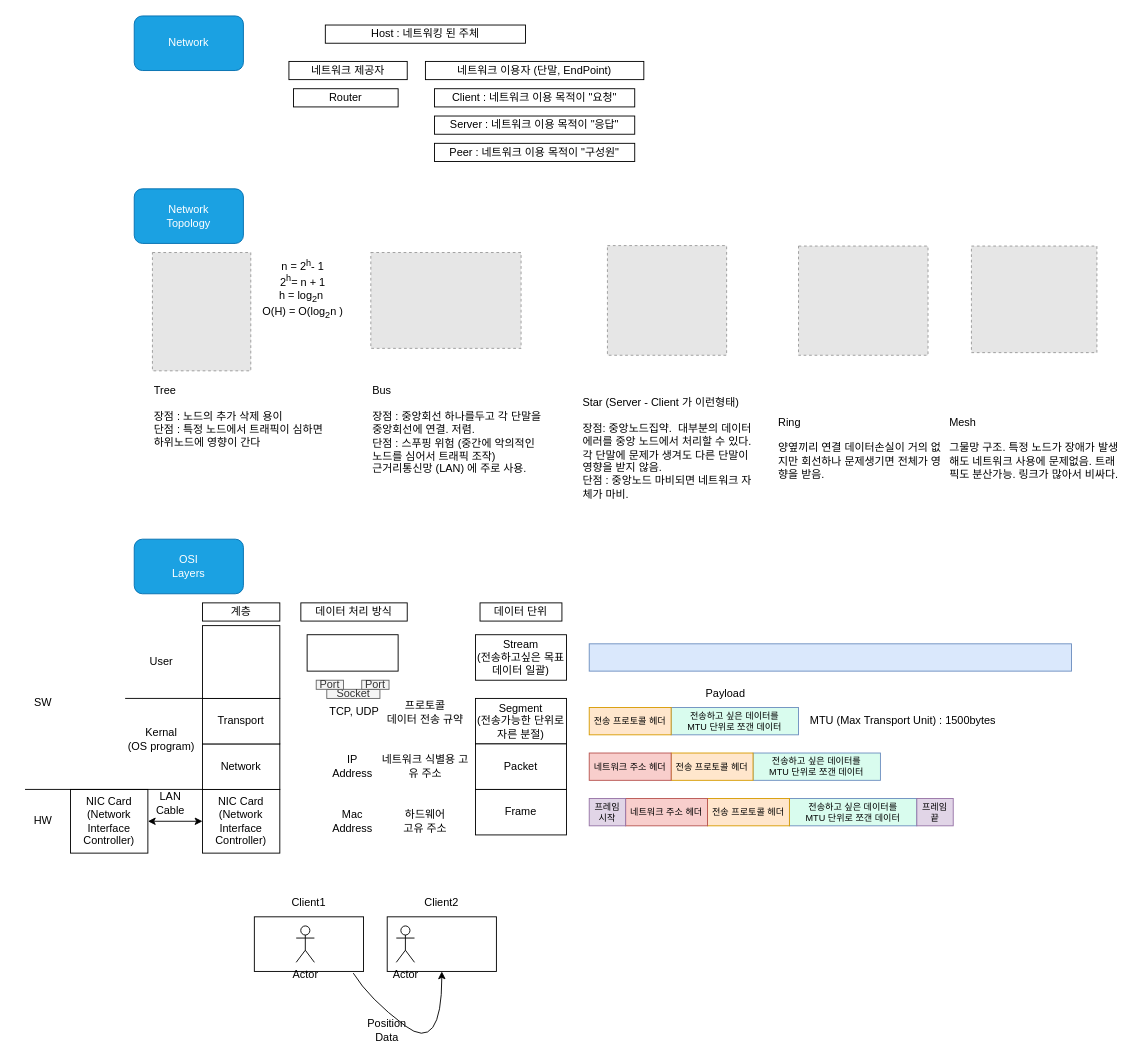
This 1137x1060 diagram has some shape labels left out. Grey dashed boxes stand in for pictures. Each missing label, with the box of its shape:
Application: (202, 625, 280, 698)
Process: (306, 634, 398, 671)
전송하고 싶은 데이터: (588, 643, 1072, 671)
